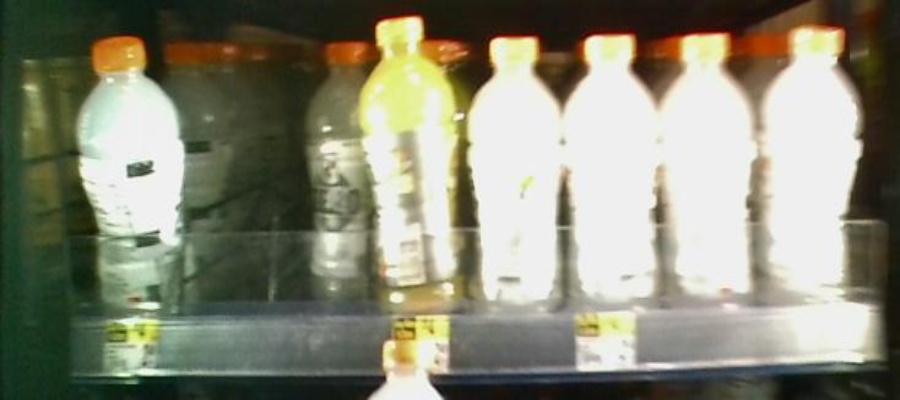bottle: (76, 25, 190, 318), (467, 3, 566, 310), (362, 13, 457, 313), (766, 16, 866, 291), (665, 22, 763, 294), (571, 24, 661, 301), (307, 41, 372, 312)
